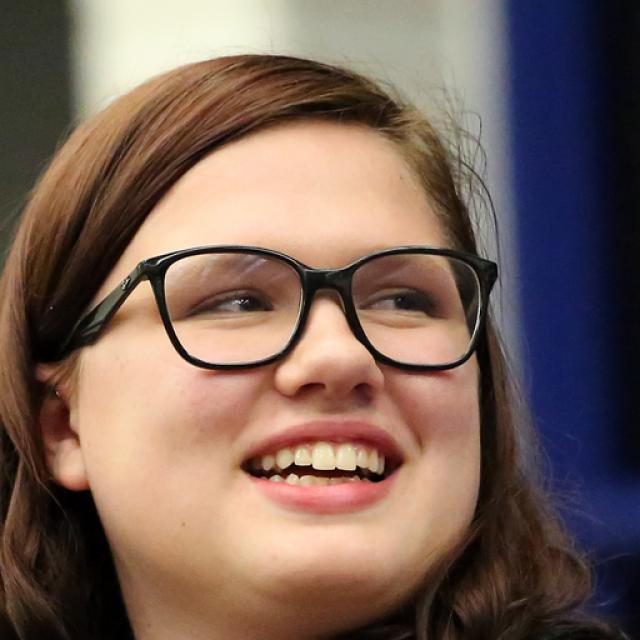happy: (86, 134, 484, 594)
